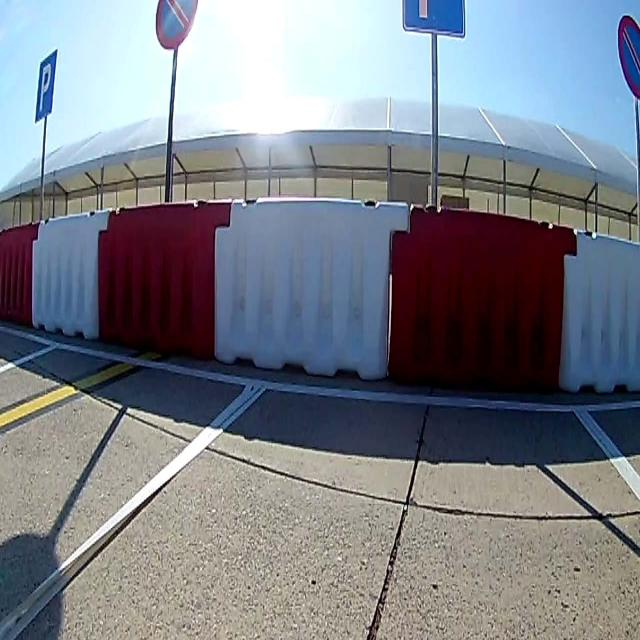park: (37, 51, 54, 117)
